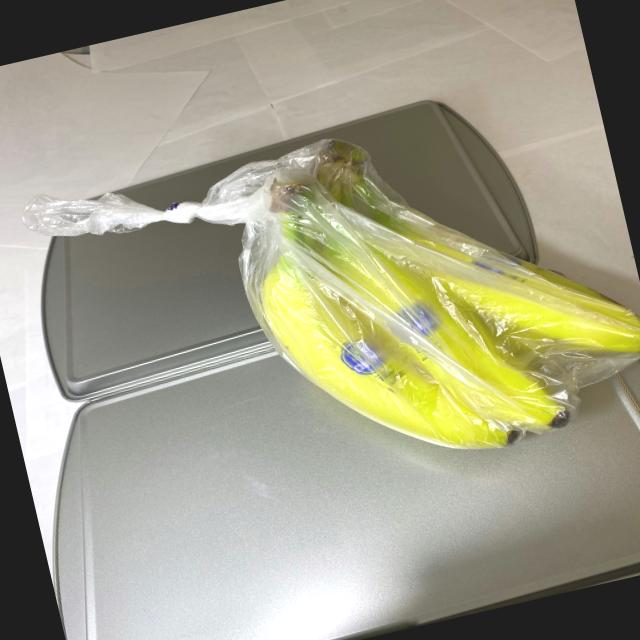banana: (204, 72, 640, 519)
